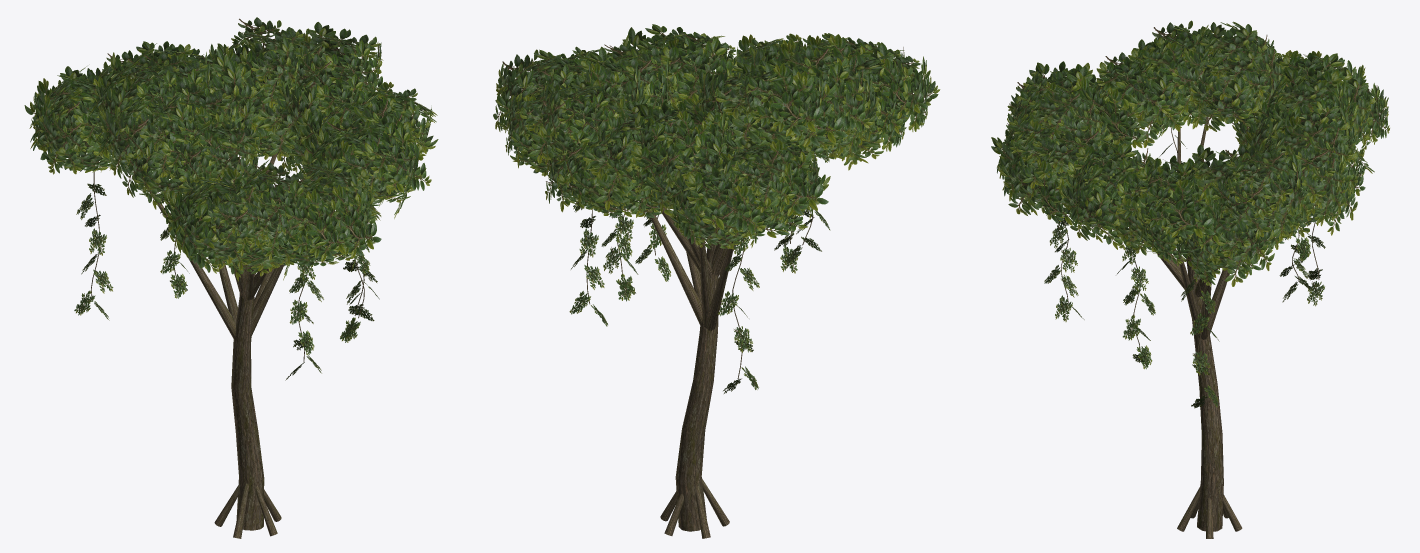
Rendered from tree_01.glb.
The picture shows the model from 3 angles, left to right: view 1: azimuth 30°, elevation 25°; view 2: azimuth 150°, elevation 25°; view 3: azimuth 270°, elevation 25°; orthographic projection. The views are drawn at different scales.
Parts seen in each view (by area): view 1: tree_01; view 2: tree_01; view 3: tree_01.
Part boxes in pixels (left/top/right/bottom): tree_01: left=24, top=17, right=438, bottom=538; tree_01: left=493, top=24, right=940, bottom=538; tree_01: left=991, top=20, right=1389, bottom=538.
Bounding box in the file's own units: 8.84 × 11.45 × 9.62.
Materials: 2 (2 with a texture image).
